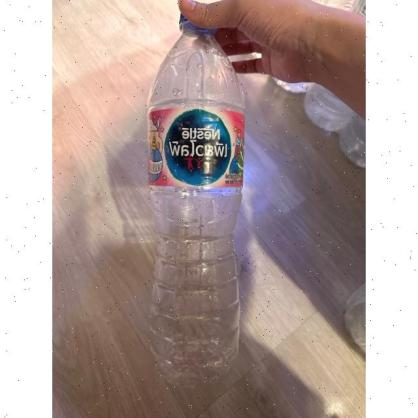bottle: (146, 6, 246, 389)
label: (147, 106, 246, 188)
